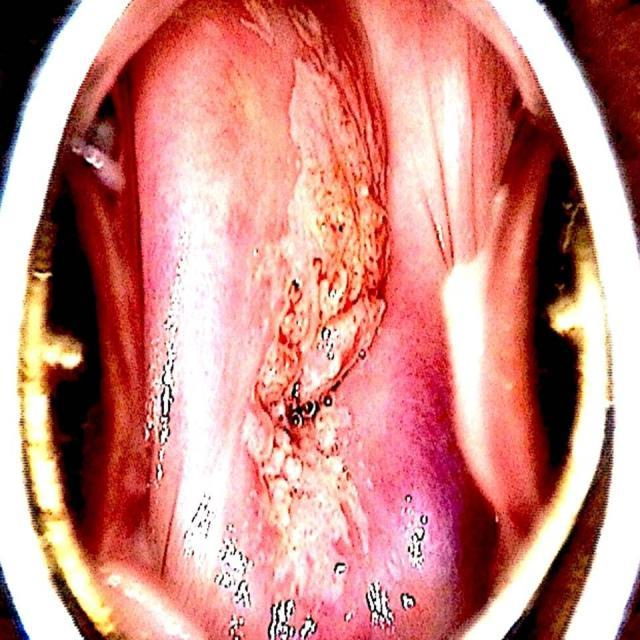cervical_lesion: (103, 0, 496, 640)
